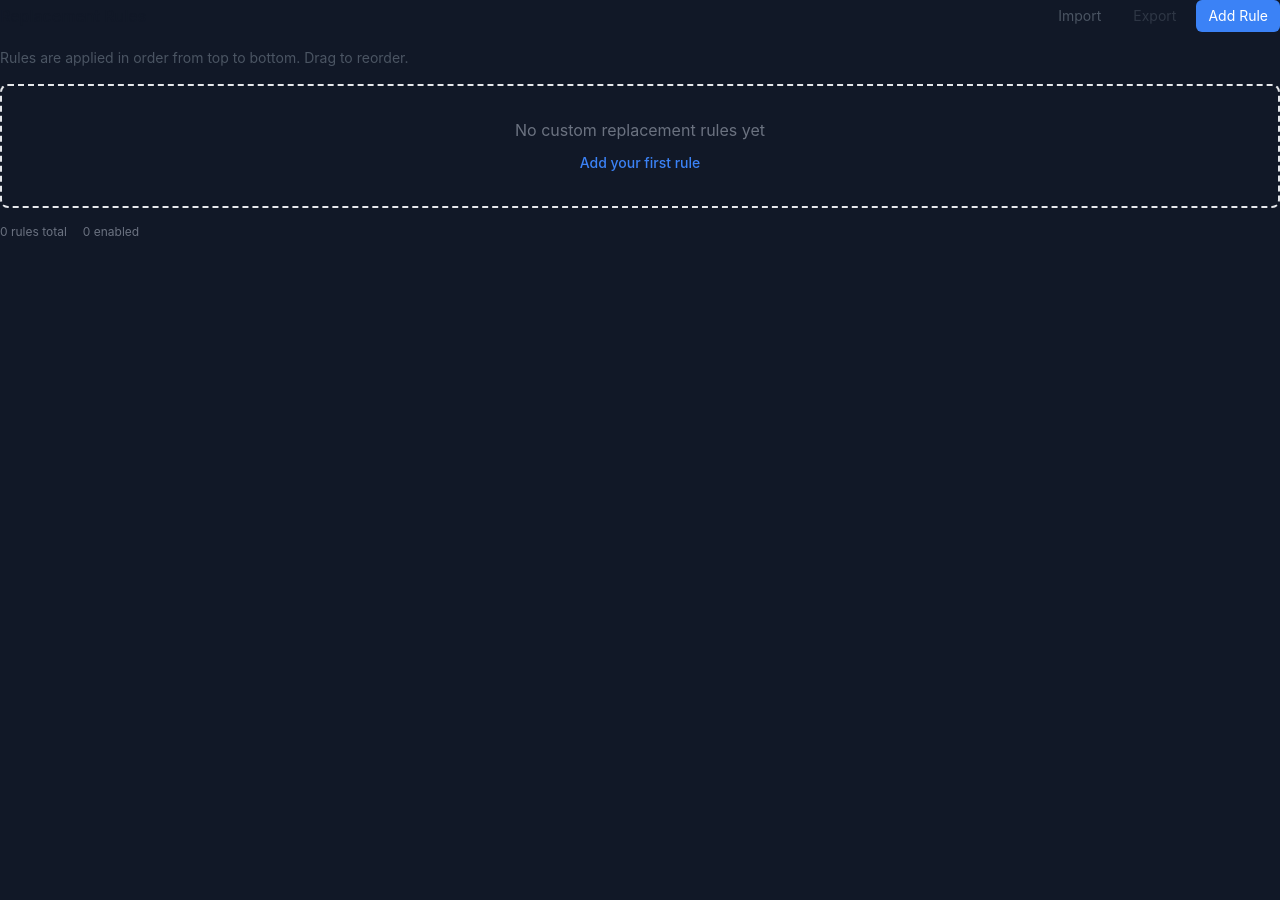
Scenario: Rule fields render correctly › editor shows word_boundary checkbox for literal mode
The width and height of the screenshot is (1280, 900).
Note: Open add editor
Click the button "Add Rule": {"x": 1238, "y": 16} [1196,0,1279,32]
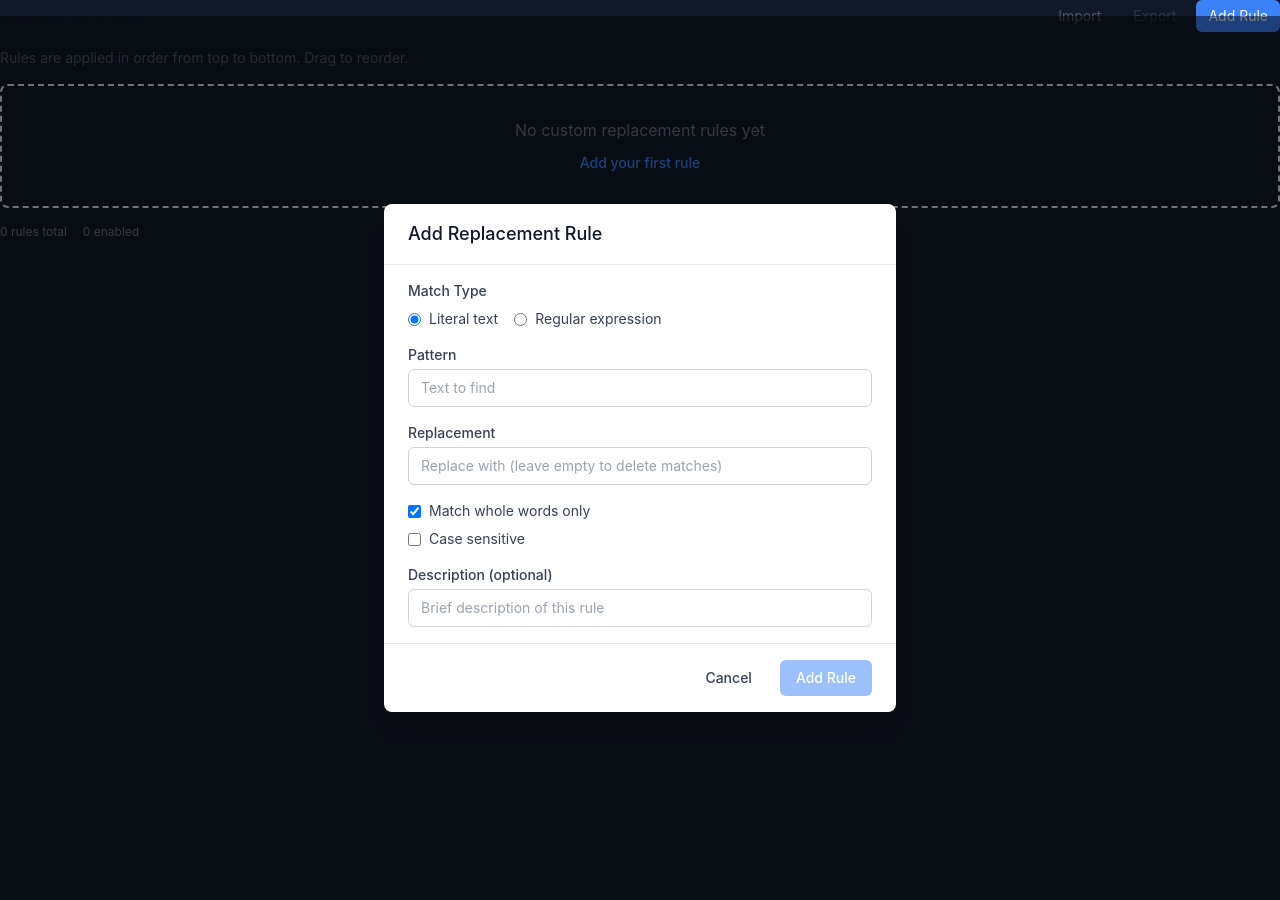
Expected: the text "Match whole words only" is shown, [429,501,590,521]
